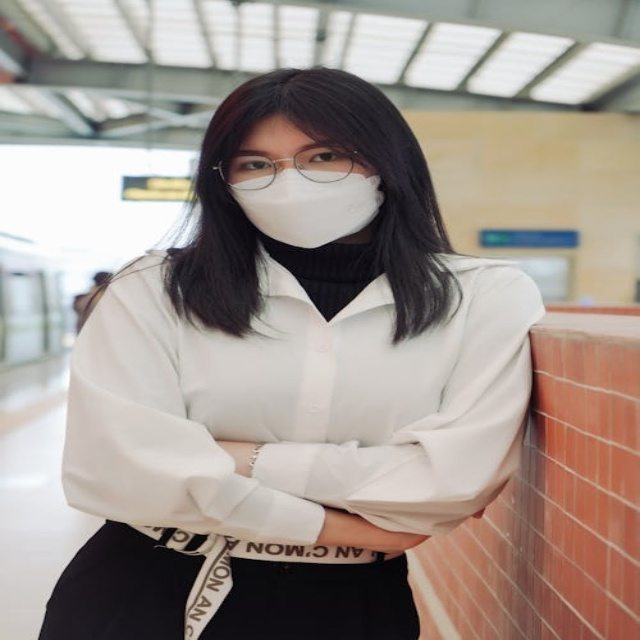Gafas: (214, 148, 367, 189)
Mascara: (223, 162, 386, 247)
